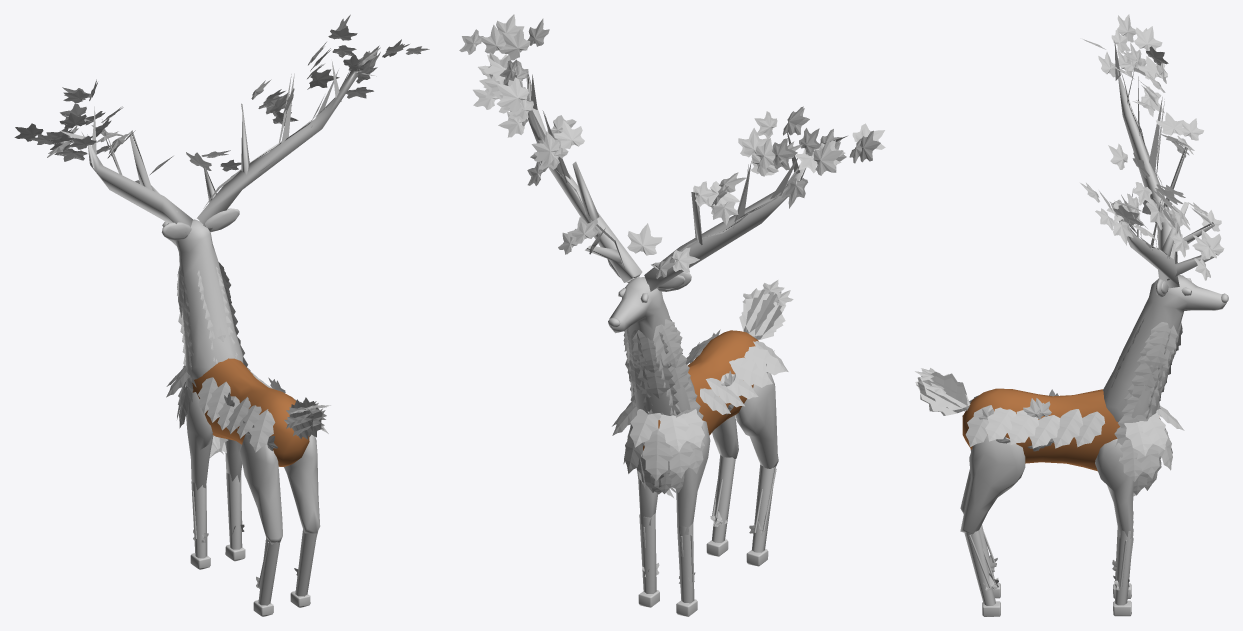
Rendered from EmberStag.obj.
The picture shows the model from 3 angles, left to right: view 1: azimuth 30°, elevation 25°; view 2: azimuth 150°, elevation 25°; view 3: azimuth 270°, elevation 25°; orthographic projection. The views are drawn at different scales.
Parts seen in each view (by area): view 1: HeadAntlerWood, HeadFur, Fur, LegBRFur, HeadPlume2, LegBLFur, HeadPlume3, LegFRFur, Plume3, HeadPlume4, HeadPlume, Plume (+9 smaller); view 2: HeadAntlerWood, HeadFur, HeadPlume3, HeadPlume, Plume, HeadPlume2, Fur, Plume2, HeadPlume4, LegBRFur, Plume3, HeadGlow (+12 smaller); view 3: HeadFur, Fur, HeadAntlerWood, LegBLFur, HeadPlume3, HeadPlume2, Plume, Plume2, LegFLFur, Plume3, HeadPlume, TailPlume4 (+8 smaller).
Boxes of the visible parts, x1,y1,x2,y2 form: HeadAntlerWood: [60, 61, 358, 235]; HeadFur: [167, 219, 243, 379]; Fur: [192, 358, 309, 466]; LegBRFur: [240, 434, 282, 544]; HeadPlume2: [14, 14, 409, 390]; LegBLFur: [284, 434, 320, 533]; HeadPlume3: [46, 27, 380, 402]; LegFRFur: [186, 392, 213, 490]; Plume3: [166, 365, 285, 452]; HeadPlume4: [51, 45, 424, 361]; HeadPlume: [29, 39, 404, 175]; Plume: [166, 366, 328, 438]; HeadAntlerWood: [526, 72, 847, 291]; HeadFur: [609, 277, 695, 415]; HeadPlume3: [478, 18, 880, 430]; HeadPlume: [473, 24, 861, 269]; Plume: [612, 329, 785, 480]; HeadPlume2: [496, 14, 880, 417]; Fur: [643, 330, 758, 450]; Plume2: [624, 336, 772, 497]; HeadPlume4: [463, 33, 843, 321]; LegBRFur: [735, 372, 778, 468]; Plume3: [612, 341, 788, 447]; HeadGlow: [459, 29, 799, 302]; HeadFur: [1103, 275, 1226, 421]; Fur: [962, 388, 1159, 471]; HeadAntlerWood: [1111, 41, 1214, 288]; LegBLFur: [960, 435, 1025, 534]; HeadPlume3: [1084, 26, 1214, 446]; HeadPlume2: [1080, 14, 1221, 436]; Plume: [965, 405, 1172, 478]; Plume2: [985, 389, 1172, 495]; LegFLFur: [1095, 438, 1133, 538]; Plume3: [969, 395, 1184, 456]; HeadPlume: [1099, 29, 1224, 259]; TailPlume4: [915, 371, 970, 415].
Bounding box in the file's own units: 3.7 × 4.49 × 2.45.
